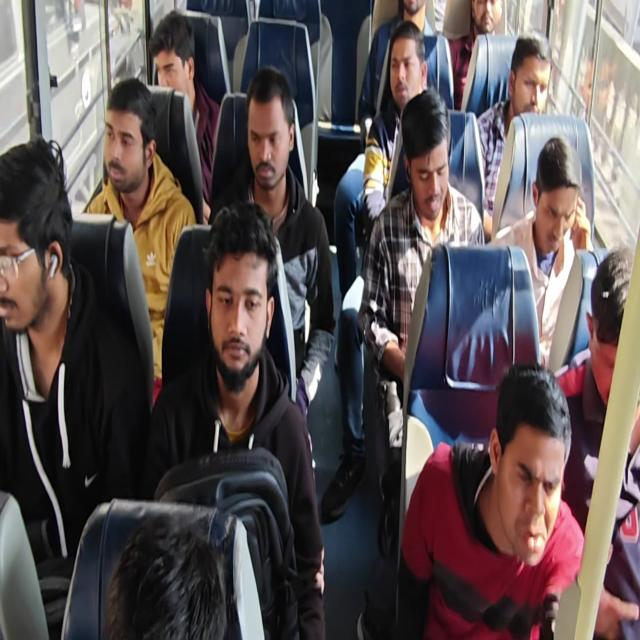person: (1, 1, 638, 638), (145, 200, 326, 638), (0, 135, 151, 637), (397, 361, 638, 639), (357, 87, 486, 448), (208, 66, 336, 422), (83, 76, 197, 406), (552, 246, 640, 638), (333, 20, 430, 302), (487, 136, 594, 370), (104, 511, 230, 639), (476, 31, 552, 238), (148, 9, 221, 222), (357, 0, 436, 143), (446, 0, 503, 110)
